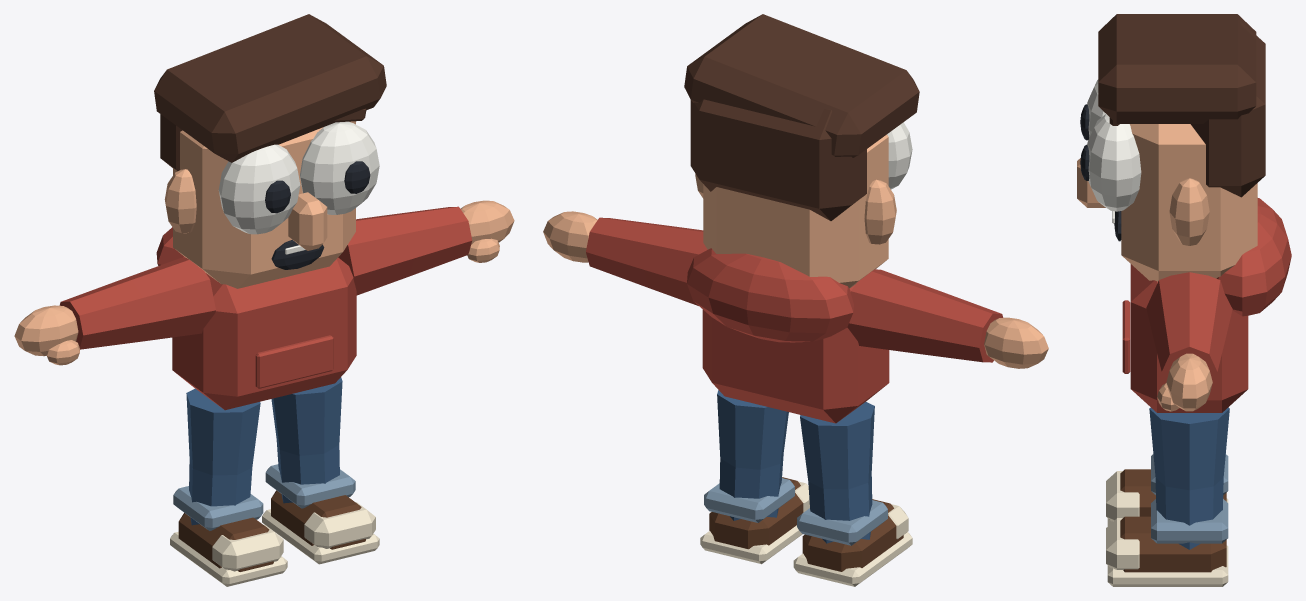
Rendered from Resident.fbx.
3 views of the same model, side by side, from view 1: azimuth 30°, elevation 25°; view 2: azimuth 150°, elevation 25°; view 3: azimuth 270°, elevation 25° (orthographic). The views are drawn at different scales.
Visible parts, largest first — view 1: Body; view 2: Body; view 3: Body.
Boxes of the visible parts, bbox=[...] form: Body: bbox=[14, 14, 514, 586]; Body: bbox=[543, 14, 1048, 586]; Body: bbox=[1077, 14, 1291, 586].
Size of the model in its own units: 1.93 by 1.85 by 0.693.
